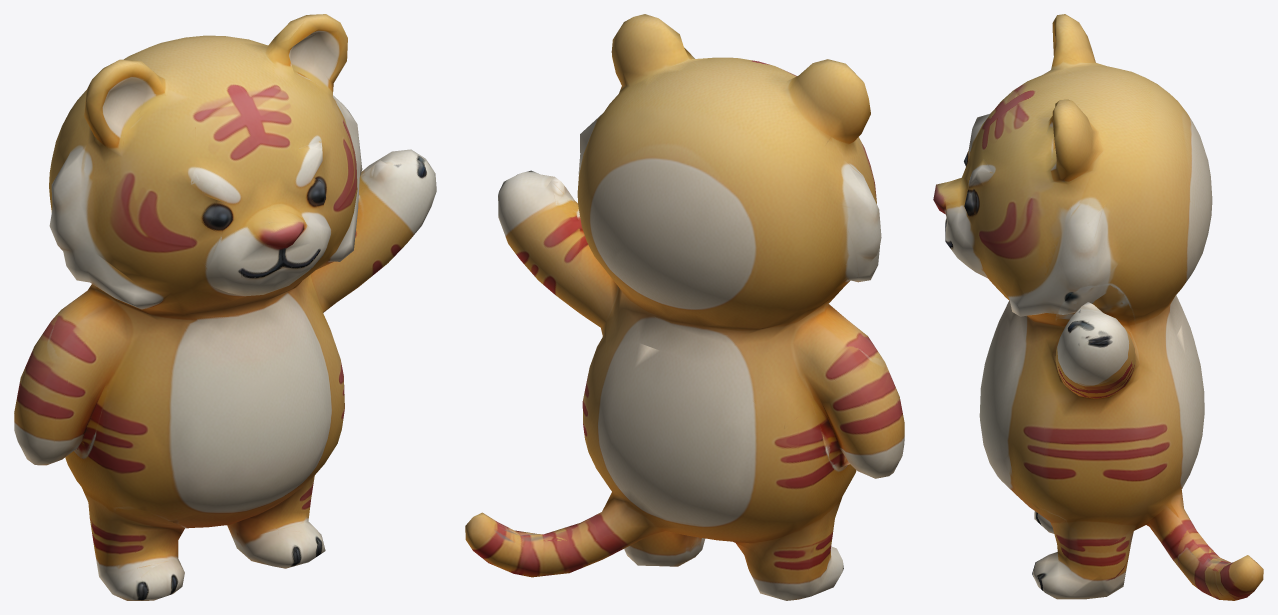
The model's file is tiger.glb.
3 views of the same model, side by side, from view 1: azimuth 30°, elevation 25°; view 2: azimuth 150°, elevation 25°; view 3: azimuth 270°, elevation 25° (orthographic). The views are drawn at different scales.
Visible parts, largest first — view 1: material_0; view 2: material_0; view 3: material_0.
Part boxes in pixels (x1,y1,x2,y2): material_0: (14, 14, 436, 600); material_0: (465, 14, 904, 600); material_0: (933, 14, 1263, 600).
Size of the model in its own units: 0.7919 by 0.997 by 0.6003.
Materials: 1 (1 with a texture image).
